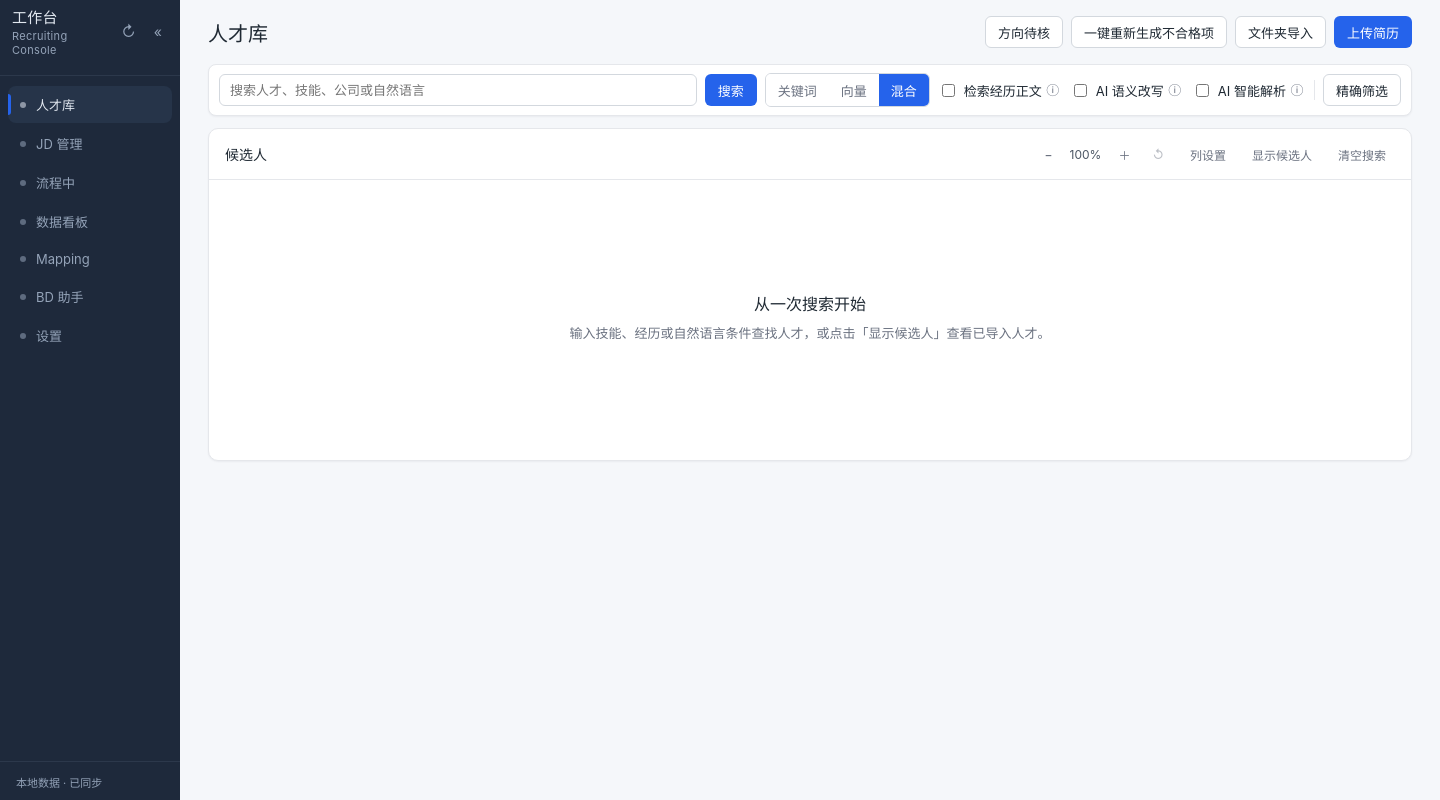
Test: recruitment consistency through the App › separates incompatible index versions from retryable sync failures
Click the button "设置" at (90, 336), box [8,317,172,354]
(page scrolled)
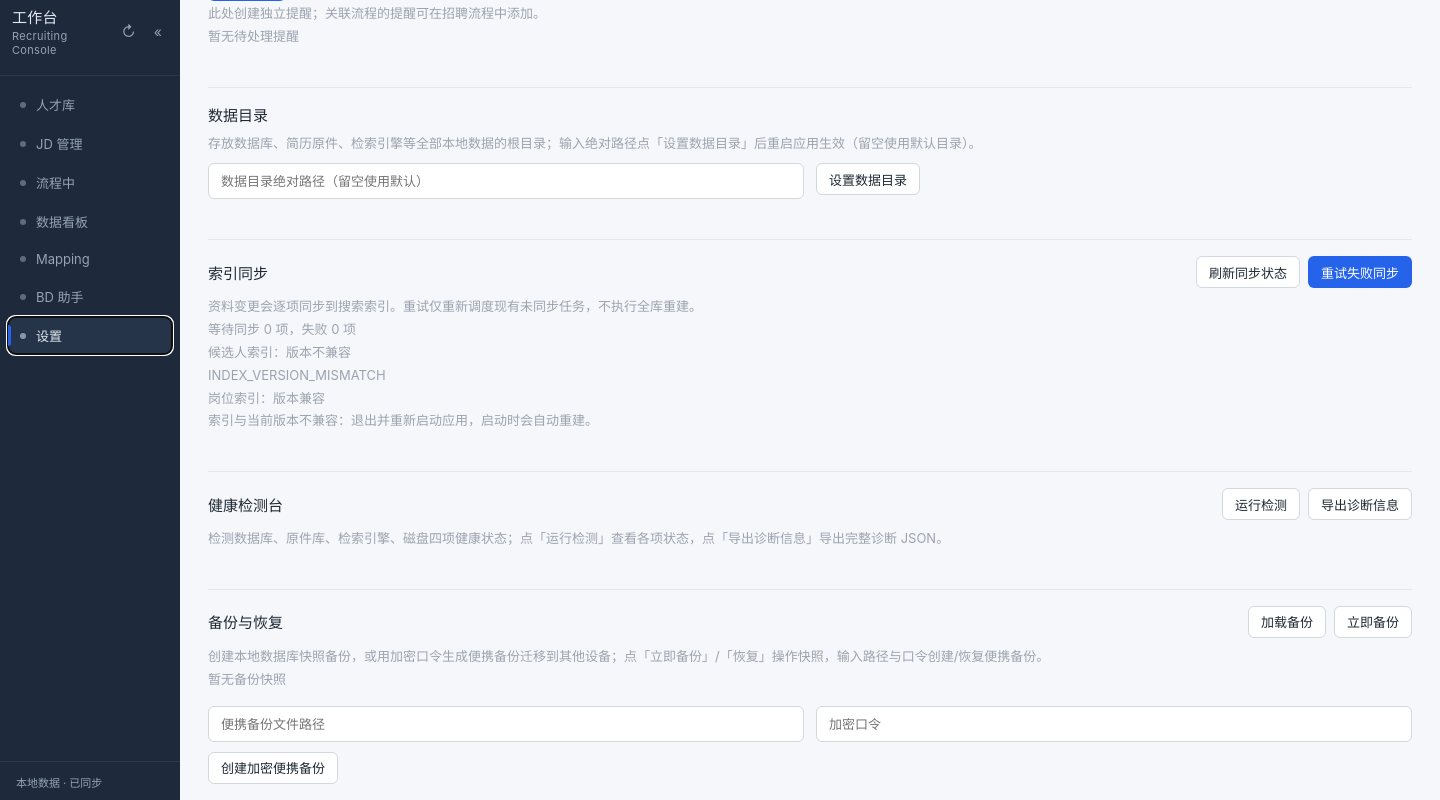
Expected: the text "候选人索引：版本不兼容" is shown, [208,344,351,360]
Expected: the text "INDEX_VERSION_MISMATCH" is shown, [208,367,386,383]
Expected: the text "索引与当前版本不兼容：退出并重新启动应用，启动时会自动重建。" is shown, [208,412,598,428]
